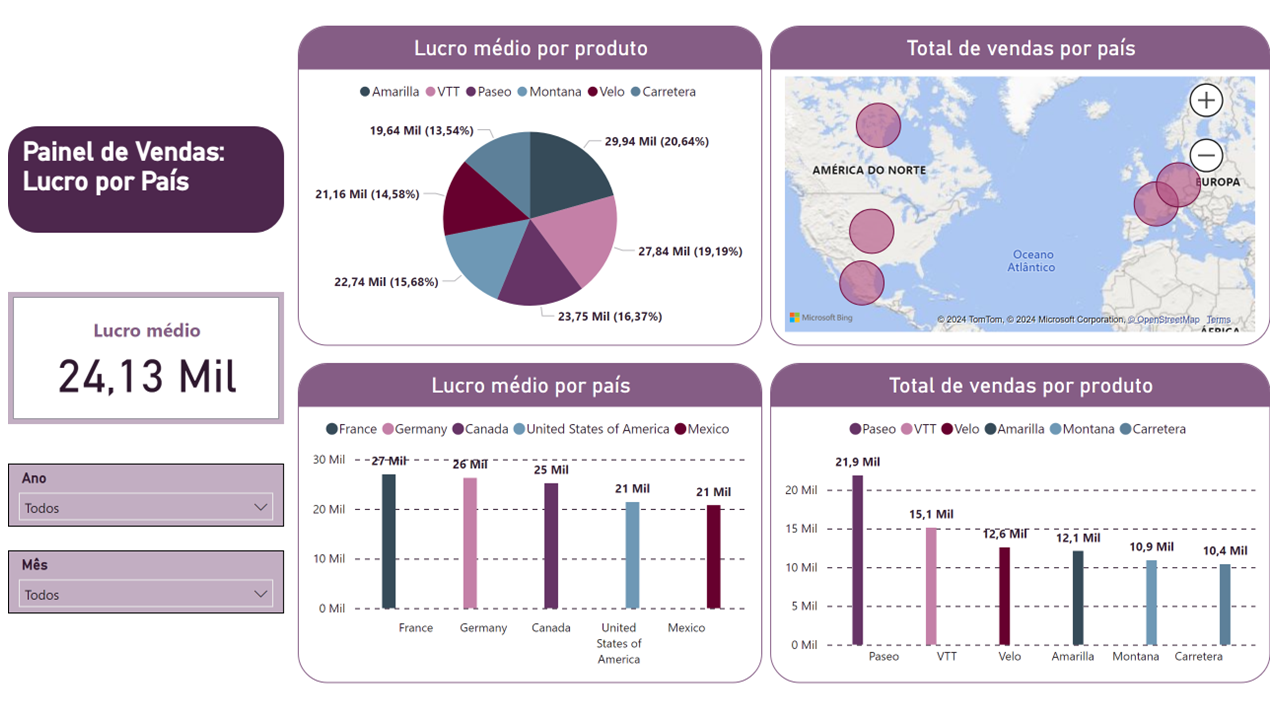

This screenshot's page, from the dashboard's own definition file:
{"tool":"powerbi","page":{"name":"Página 1","canvas":[1280,720],"ordinal":0},"visuals":[{"type":"textbox","title":"Painel de Vendas: Lucro por País","box":[0,128,280,108],"z":0},{"type":"cardVisual","fields":{"Data":["F_Vendas.Lucro_Medio"]},"box":[0,296,280,134],"z":0,"group":"g2"},{"type":"clusteredColumnChart","title":"Total de vendas por produto","fields":{"Category":["F_Vendas.Product"],"Y":["F_Vendas.Total_Vendas"],"Series":["F_Vendas.Product"]},"box":[772.7,367.5,507.3,324.5],"z":0,"group":"g1"},{"type":"group","id":"g1","title":"Grupo 1","box":[294,26,986,666],"z":1000},{"type":"slicer","fields":{"Values":["D_Calendário.Ano"]},"box":[0,470,280,64],"z":1000,"group":"g2"},{"type":"group","id":"g2","title":"Grupo 2","box":[0,296,280,326],"z":2000},{"type":"clusteredColumnChart","title":"Lucro médio por país","fields":{"Category":["F_Vendas.Country"],"Y":["F_Vendas.Lucro_Medio"],"Series":["F_Vendas.Country"]},"box":[294,367.5,471.1,324.5],"z":2000,"group":"g1"},{"type":"slicer","fields":{"Values":["D_Calendário.Nome_do_Mês"]},"box":[0,558,280,64],"z":2000,"group":"g2"},{"type":"pieChart","title":"Lucro médio por produto","fields":{"Category":["F_Vendas.Product"],"Y":["F_Vendas.Lucro_Medio"]},"box":[294,26,471.1,324.5],"z":3000,"group":"g1"},{"type":"map","title":"Total de vendas por país","fields":{"Size":["F_Vendas.Total_Vendas"],"Category":["F_Vendas.Country"]},"box":[772.7,26,507.3,324.5],"z":4000,"group":"g1"}]}

Visuals, with their boxes in screenshot pixels (x1, y1, x2, y2), scaled from the page's 1280x720 canvas onto the 1280x720 screenshot:
"Painel de Vendas: Lucro por País" textbox: select_region(0, 128, 280, 236)
cardVisual - F_Vendas.Lucro_Medio: select_region(0, 296, 280, 430)
"Total de vendas por produto" clusteredColumnChart: select_region(773, 368, 1279, 692)
"Grupo 1" group: select_region(294, 26, 1279, 692)
slicer - D_Calendário.Ano: select_region(0, 470, 280, 534)
"Grupo 2" group: select_region(0, 296, 280, 622)
"Lucro médio por país" clusteredColumnChart: select_region(294, 368, 765, 692)
slicer - D_Calendário.Nome_do_Mês: select_region(0, 558, 280, 622)
"Lucro médio por produto" pieChart: select_region(294, 26, 765, 350)
"Total de vendas por país" map: select_region(773, 26, 1279, 350)
